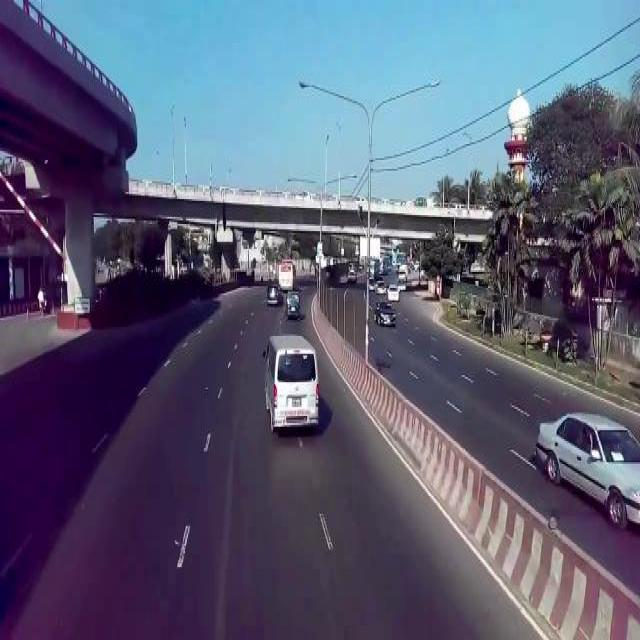vehicle: (535, 405, 640, 536), (261, 332, 323, 435), (374, 301, 398, 331), (284, 285, 303, 321), (278, 258, 298, 292), (266, 281, 283, 304)
